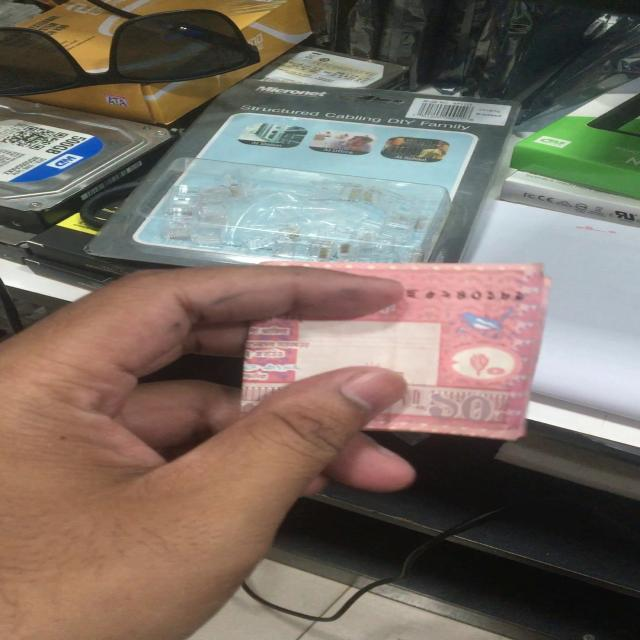Taka: (260, 260, 540, 442)
